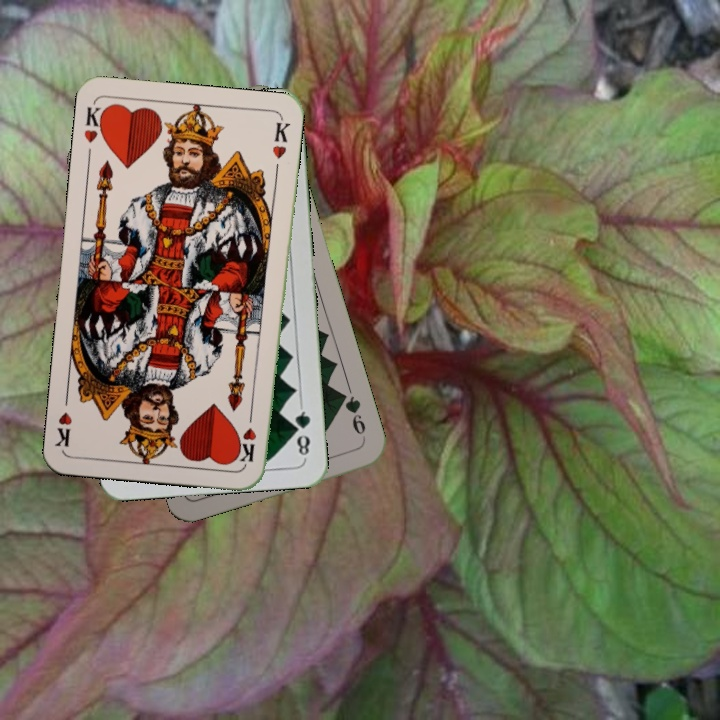G8: (289, 402, 313, 461)
G9: (335, 388, 368, 438)
HK: (236, 406, 259, 465), (80, 102, 109, 145)
